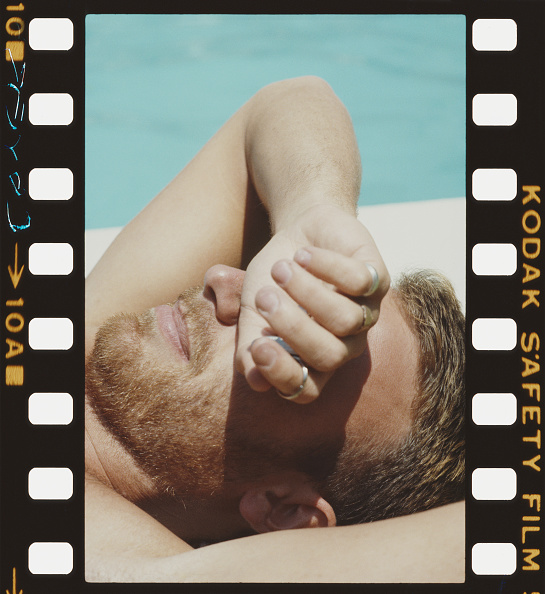deitado: (1, 57, 510, 592)
